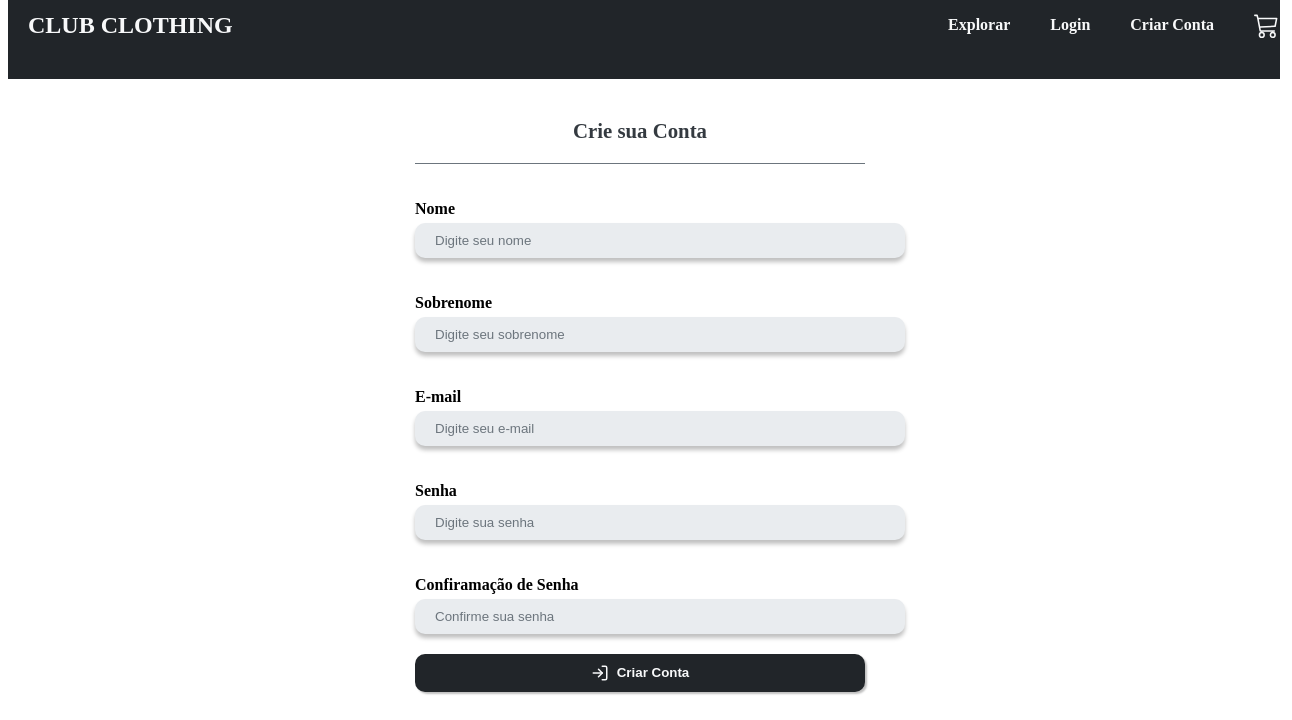
it: Sign Up › should show error when trying to submit without filling all required fields
This screenshot has width=1292, height=720.
(page scrolled)
Click the button "Criar Conta".
click(640, 673)  # box [415,654,865,692]
(page scrolled)
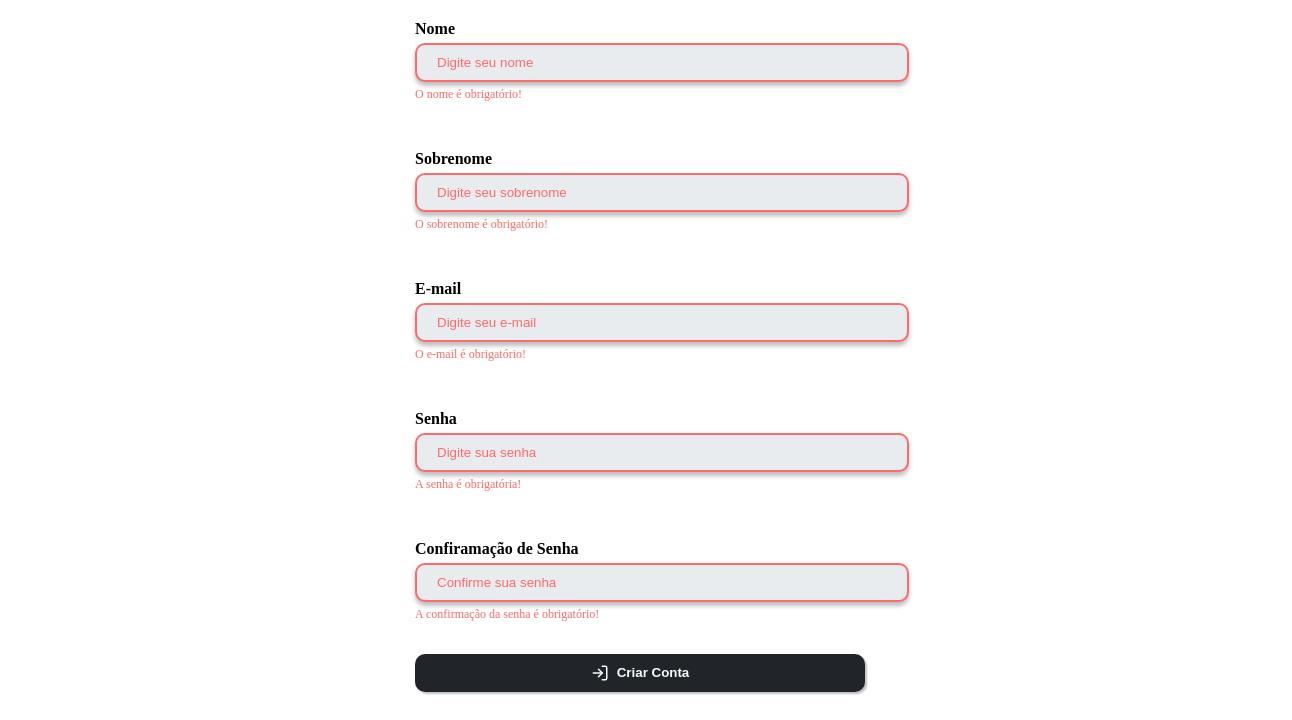
expect the text "O nome é obrigatório!" is shown: met, box [415,87,522,101]
expect the text "O sobrenome é obrigatório!" is shown: met, box [415,217,548,231]
expect the text "O e-mail é obrigatório!" is shown: met, box [415,347,526,361]
